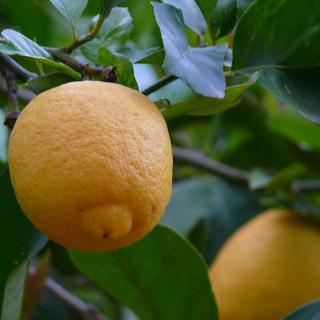Lemon: (8, 80, 174, 253)
Orange: (10, 82, 174, 251), (203, 206, 320, 320)
